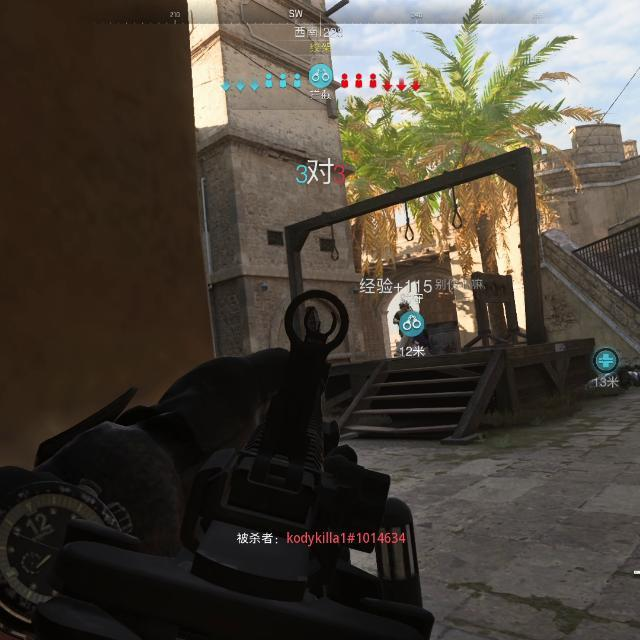MW2_body: (391, 299, 418, 357)
